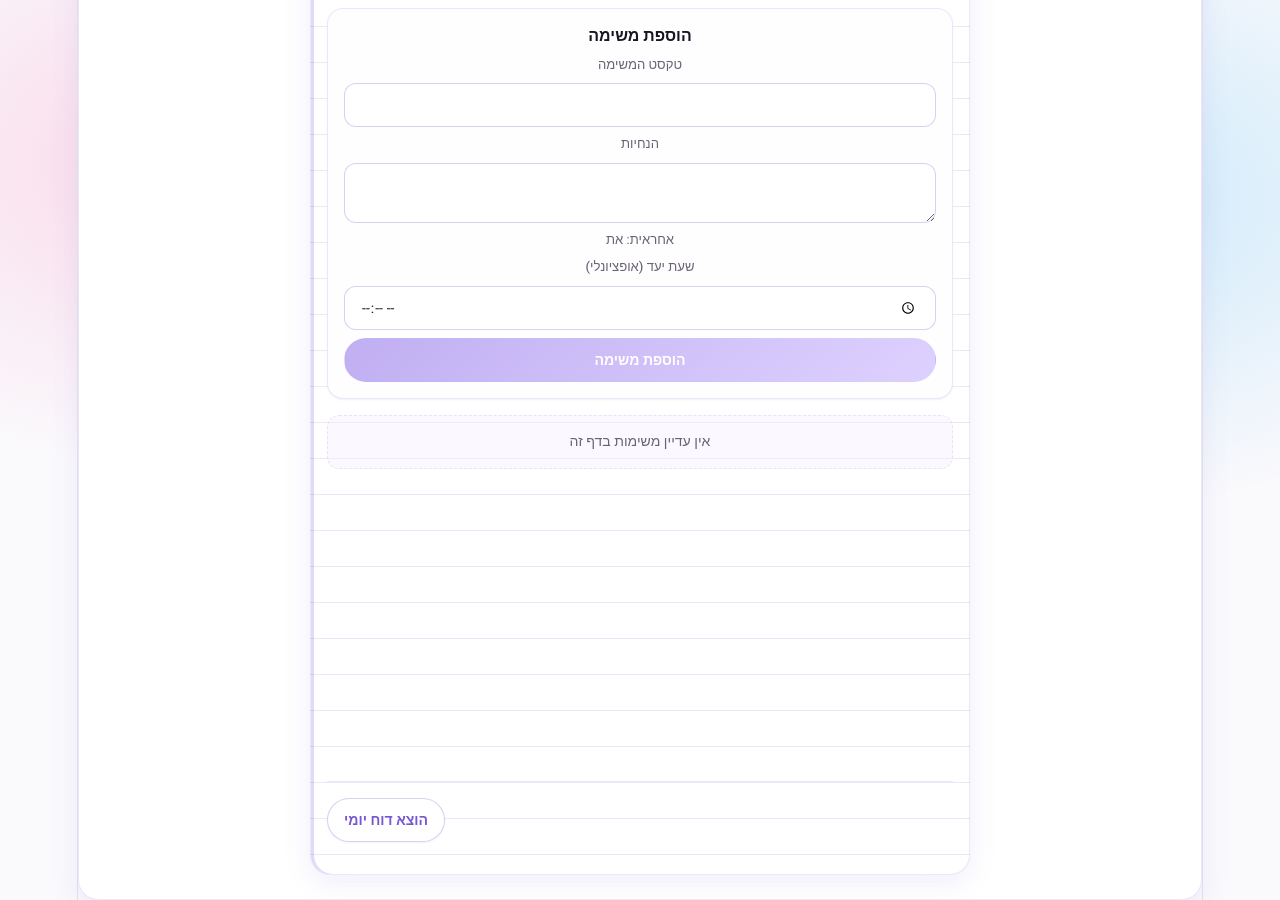
it: ManagementJournalSection J3A daily summary › shows the daily-summary button on a readable personal page and opens after refresh
The image size is (1280, 900).
(page scrolled)
Click the button with test id "journal-daily-summary-open": (386, 820) x1=327 y1=798 x2=445 y2=842
(page scrolled)
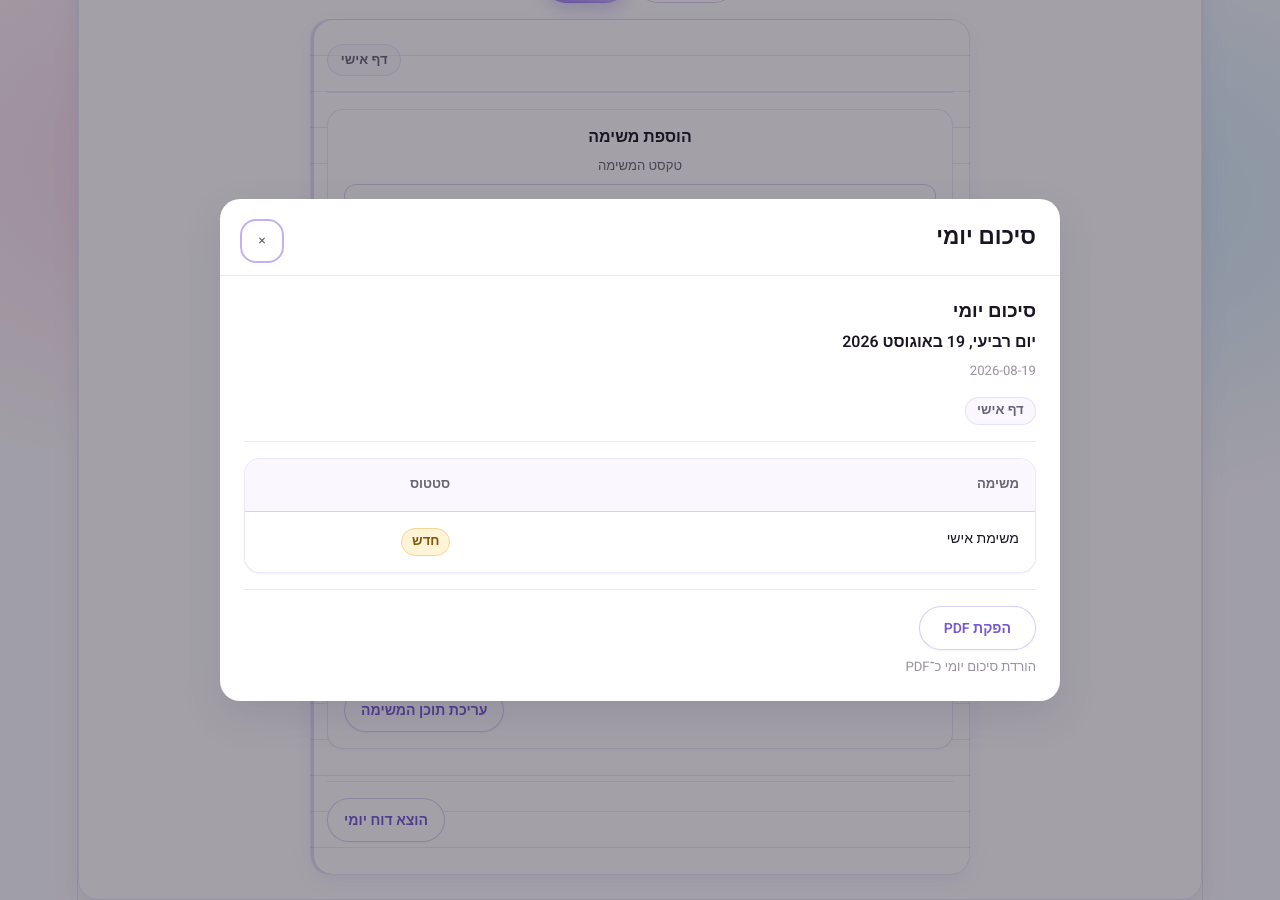
expect the element with test id "journal-daily-summary" is shown: met, box x1=244 y1=300 x2=1036 y2=677
expect the text with test id "journal-daily-summary-page-type" reads "דף אישי": met, box x1=977 y1=400 x2=1024 y2=420
expect the row with test id "journal-daily-summary-row-task-1" shows "משימת אישי": met, box x1=947 y1=528 x2=1019 y2=549
